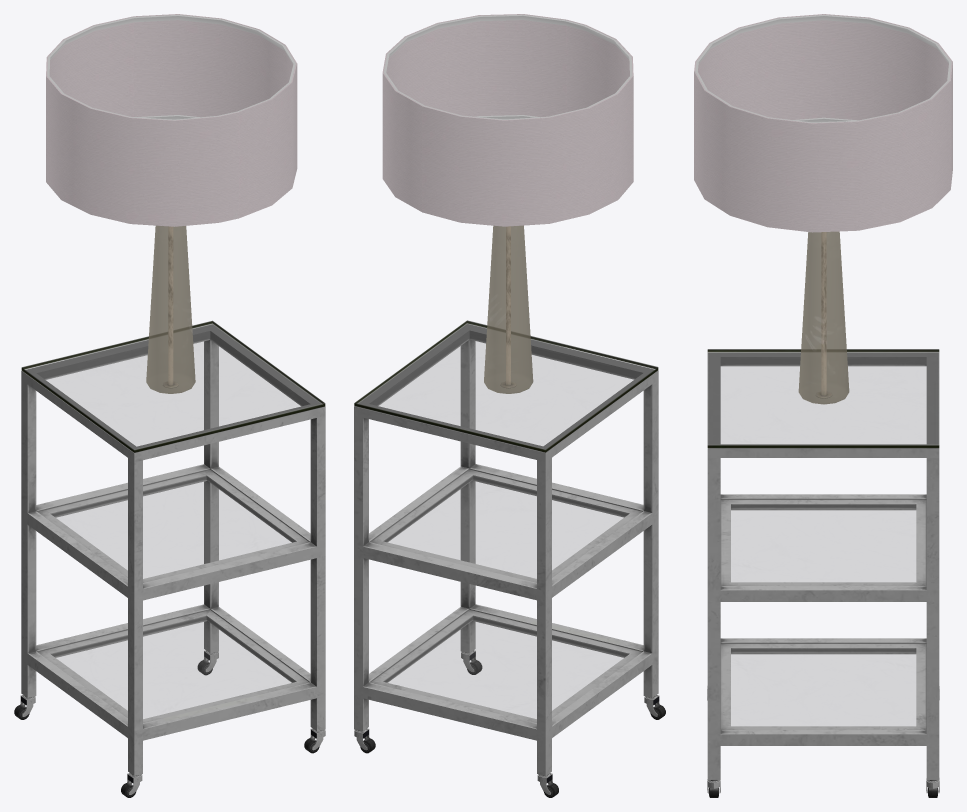
File: lamp_side.glb
3 views of the same model, side by side, from view 1: azimuth 30°, elevation 25°; view 2: azimuth 150°, elevation 25°; view 3: azimuth 270°, elevation 25° (orthographic). The views are drawn at different scales.
Parts seen in each view (by area): view 1: defaultMaterial (×2); view 2: defaultMaterial (×2); view 3: defaultMaterial (×2).
Part boxes in pixels (x1,y1,x2,y2): defaultMaterial (×2): (14, 14, 325, 797); defaultMaterial (×2): (354, 14, 665, 797); defaultMaterial (×2): (694, 14, 952, 797).
Size of the model in its own units: 0.6877 by 2 by 0.6856.
Materials: 2 (2 with a texture image).
